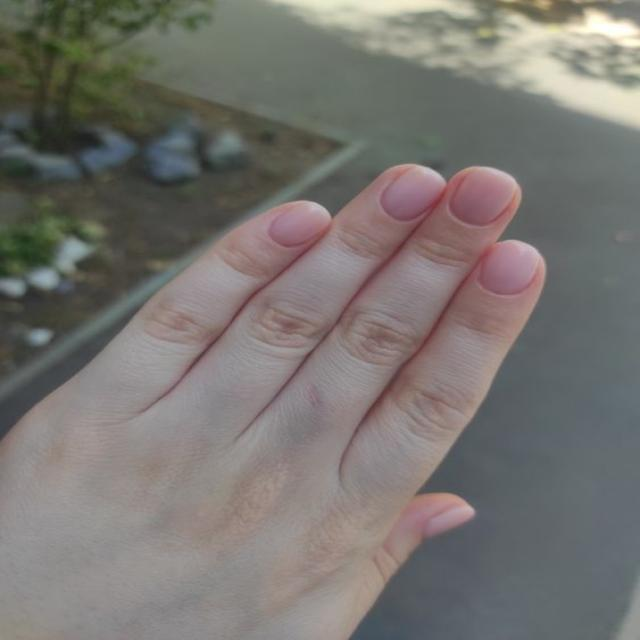Fingernail: (451, 167, 516, 226), (381, 167, 445, 220), (481, 240, 540, 294), (271, 201, 333, 247), (425, 507, 475, 540)
